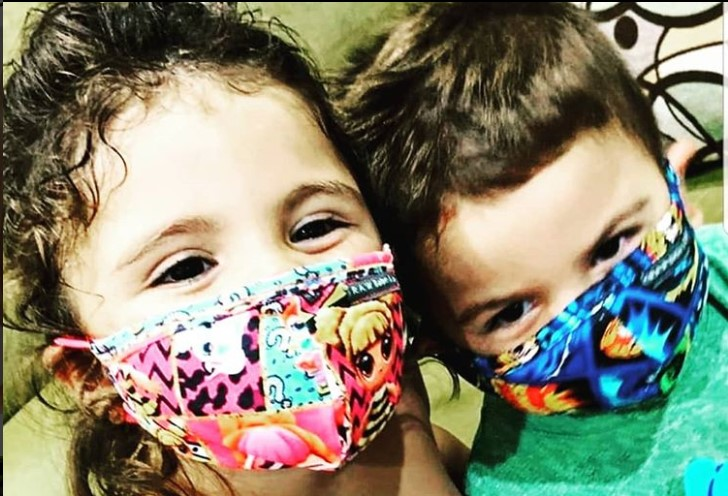face_with_mask: (5, 3, 433, 496), (439, 8, 715, 439)
